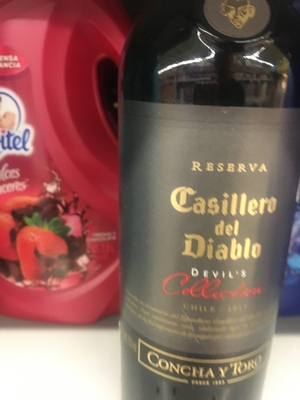casillero del diablo devils collection rojo: (106, 9, 300, 398)
